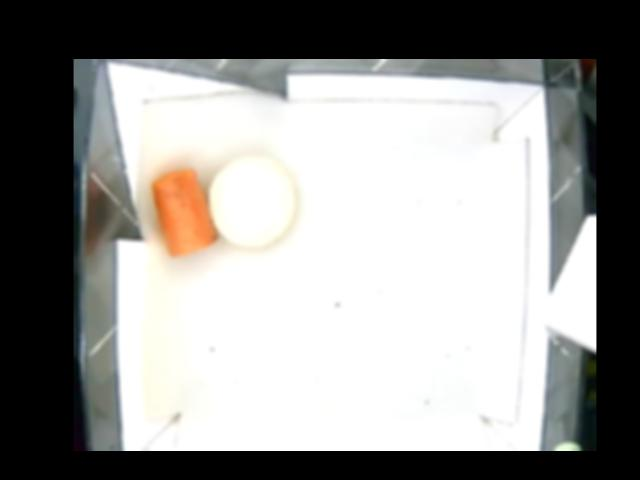Carrot: (152, 166, 217, 258)
Mooli: (208, 154, 292, 246)
